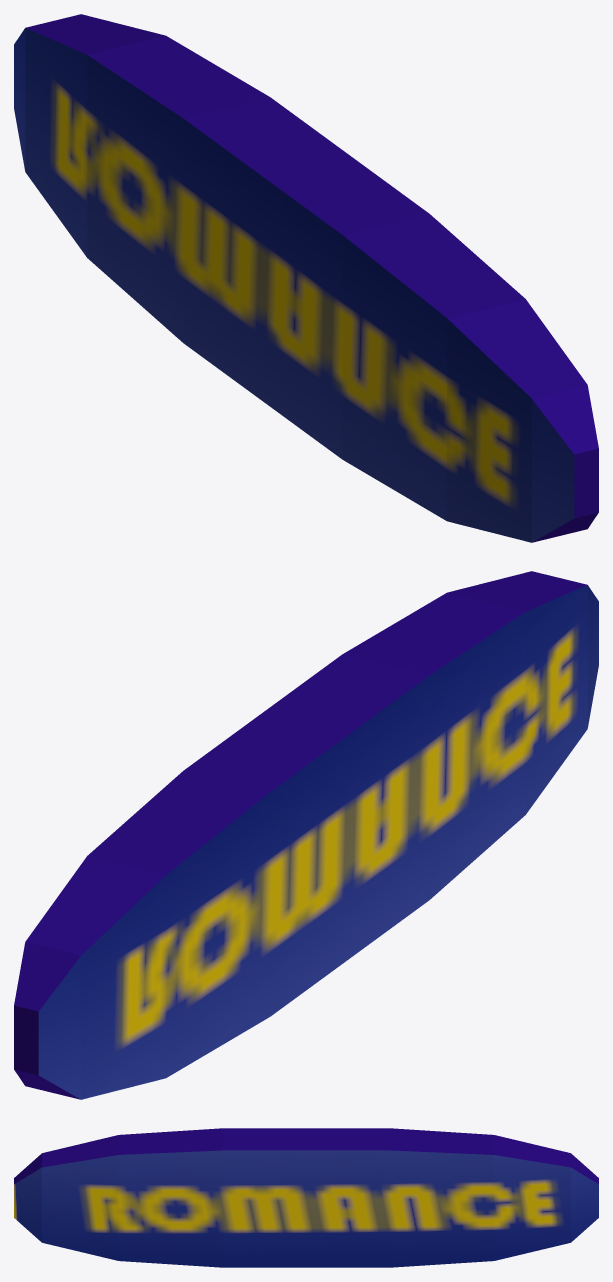
The model's file is Romance_sign.mtl.obj.
3 renders of one model, top to bottom at view 1: azimuth 30°, elevation 25°; view 2: azimuth 150°, elevation 25°; view 3: azimuth 270°, elevation 25°, orthographic. The views are drawn at different scales.
Visible parts, largest first — view 1: Romance_Sign_Cube.037; view 2: Romance_Sign_Cube.037; view 3: Romance_Sign_Cube.037.
Part boxes in pixels (bbox=[...]): Romance_Sign_Cube.037: bbox=[14, 14, 598, 542]; Romance_Sign_Cube.037: bbox=[14, 571, 598, 1099]; Romance_Sign_Cube.037: bbox=[14, 1128, 598, 1267].
Size of the model in its own units: 0.1795 by 0.4425 by 2.
